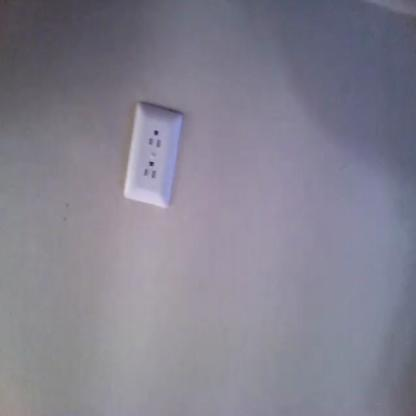OUTLET: (123, 102, 186, 208)
